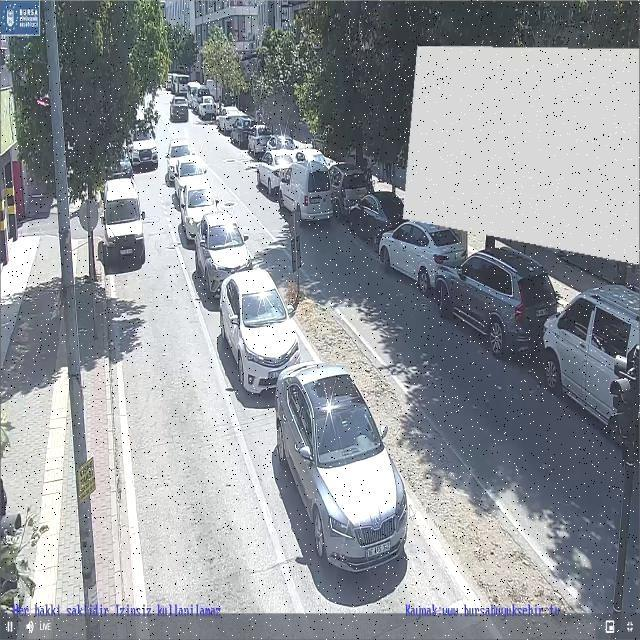Car: (274, 362, 410, 572), (433, 247, 558, 355), (218, 265, 300, 397), (379, 219, 465, 294), (193, 209, 253, 302), (348, 190, 405, 245), (327, 162, 371, 219), (179, 179, 219, 240), (256, 148, 296, 195), (173, 154, 208, 202), (126, 126, 158, 166), (166, 137, 195, 181), (102, 146, 136, 180), (248, 122, 275, 155), (230, 115, 258, 146), (214, 105, 244, 131), (168, 97, 190, 123), (197, 96, 218, 119)
Van: (543, 284, 640, 437), (100, 177, 148, 264), (277, 159, 334, 225)
